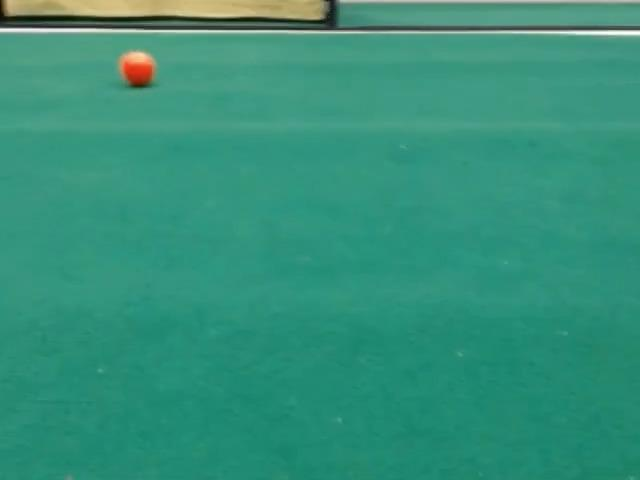Ball: (119, 51, 155, 86)
Yellow Goal: (0, 0, 336, 31)
